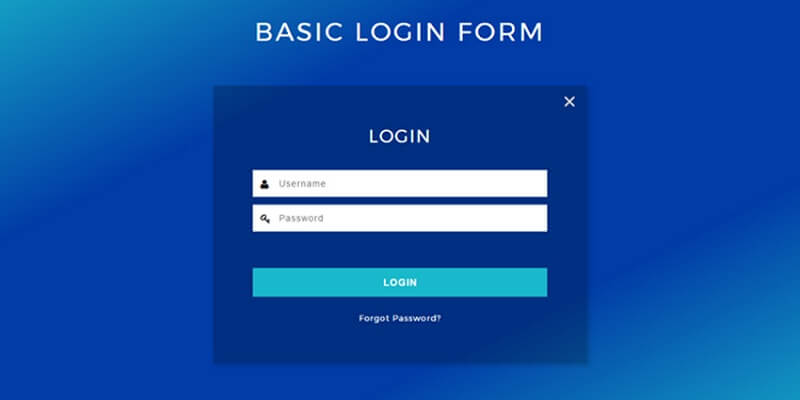button: (250, 266, 548, 299)
field: (250, 201, 548, 234), (249, 167, 549, 199)
